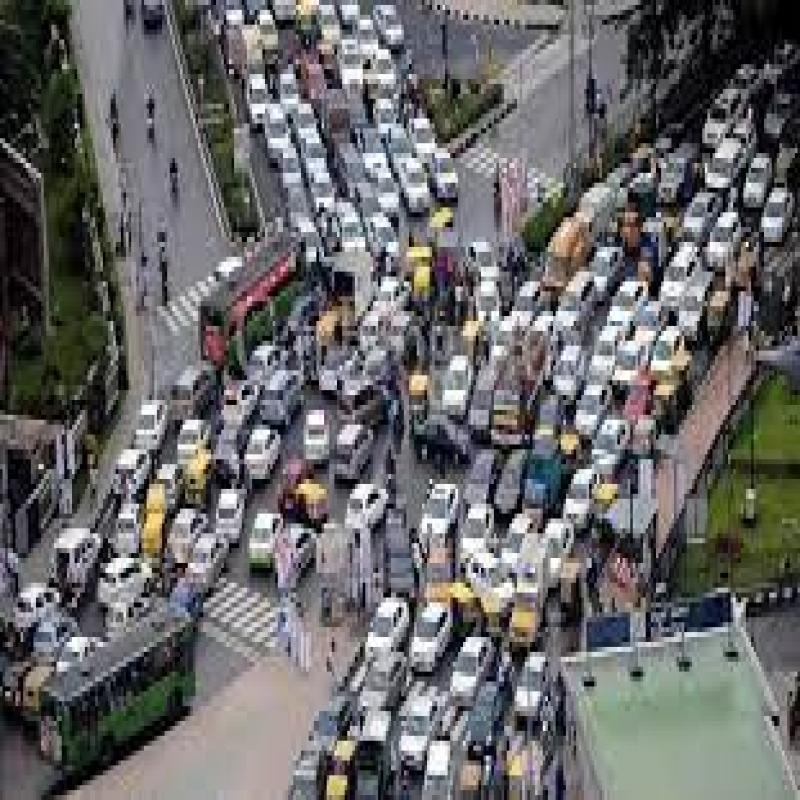car: (263, 366, 315, 446), (184, 524, 239, 593), (461, 501, 500, 594), (358, 591, 401, 670), (247, 420, 298, 480), (344, 481, 400, 531), (224, 378, 270, 436), (336, 422, 380, 481), (440, 350, 475, 424), (138, 390, 179, 453), (180, 418, 212, 498), (248, 484, 279, 564), (372, 590, 408, 658), (110, 449, 156, 500), (416, 604, 448, 672), (456, 635, 488, 703), (421, 485, 451, 546)
